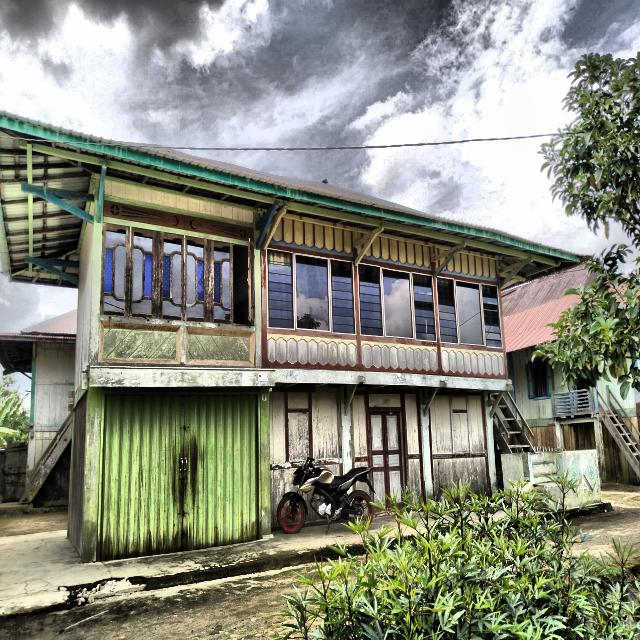column: (81, 387, 104, 562), (258, 388, 271, 537), (418, 389, 434, 498), (483, 391, 498, 493), (338, 387, 352, 474), (593, 415, 607, 482), (555, 419, 564, 451)
door: (370, 412, 404, 509)
ornamen: (98, 321, 181, 364), (267, 333, 358, 370), (186, 326, 256, 366), (361, 340, 439, 375), (441, 347, 506, 378)
roof: (0, 112, 584, 281), (502, 265, 596, 352), (0, 310, 77, 375)
stair: (21, 411, 74, 503), (597, 391, 640, 479), (491, 393, 534, 453)
wall: (98, 181, 255, 367), (97, 391, 262, 562), (266, 216, 358, 370), (358, 236, 439, 375), (269, 392, 340, 531), (436, 252, 506, 378), (352, 390, 424, 509), (429, 394, 489, 501), (34, 342, 76, 424), (74, 221, 93, 393), (69, 391, 87, 557), (33, 431, 58, 469)
window: (100, 222, 130, 317), (296, 254, 329, 331), (130, 227, 157, 319), (382, 268, 413, 337), (160, 231, 184, 320), (267, 249, 294, 328), (330, 259, 356, 334), (185, 235, 207, 322), (233, 238, 255, 325), (211, 240, 233, 323), (358, 264, 383, 336), (456, 281, 484, 345), (412, 273, 436, 341), (436, 277, 458, 344), (481, 284, 502, 347), (526, 359, 554, 398), (289, 412, 309, 462), (453, 413, 469, 453)
